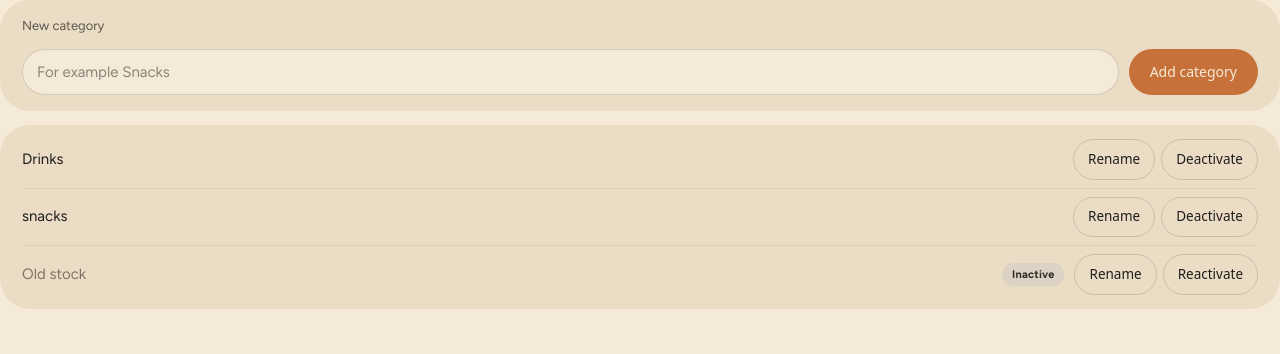
Test: Products > Categories (PROD-03) › a name already used says so
Type "drinks" into the field labelled "New category".
click(570, 72); type("drinks")  # box x1=22 y1=49 x2=1119 y2=95
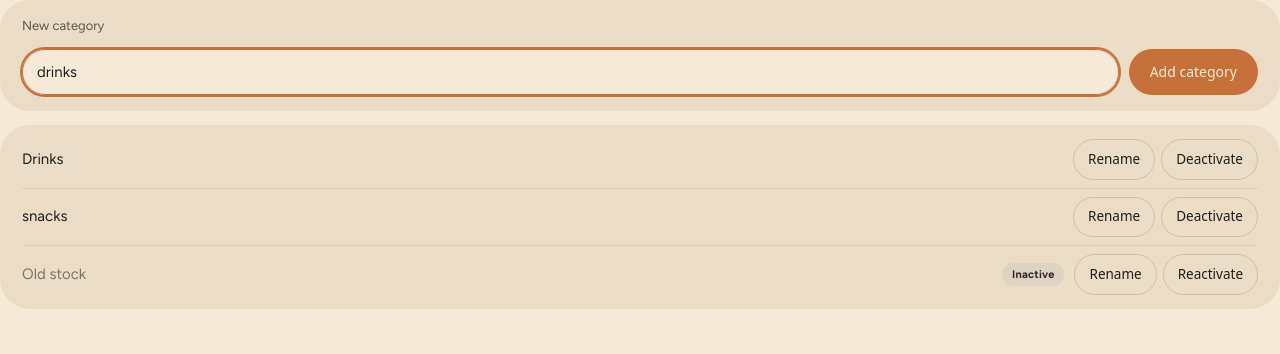
Click the button "Add category".
click(1193, 72)  # box x1=1129 y1=49 x2=1258 y2=95
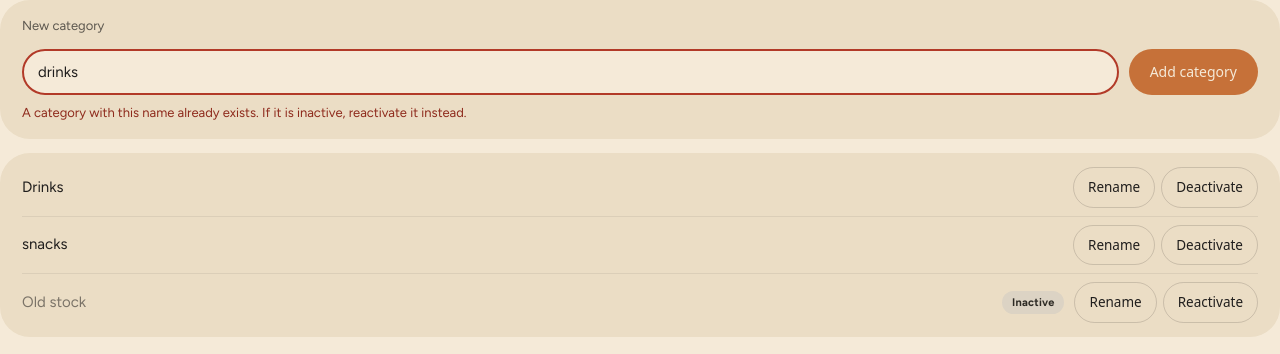
Result: the text "A category with this name already exists. If it is inactive, reactivate it instead." is shown at x1=22 y1=105 x2=467 y2=120
